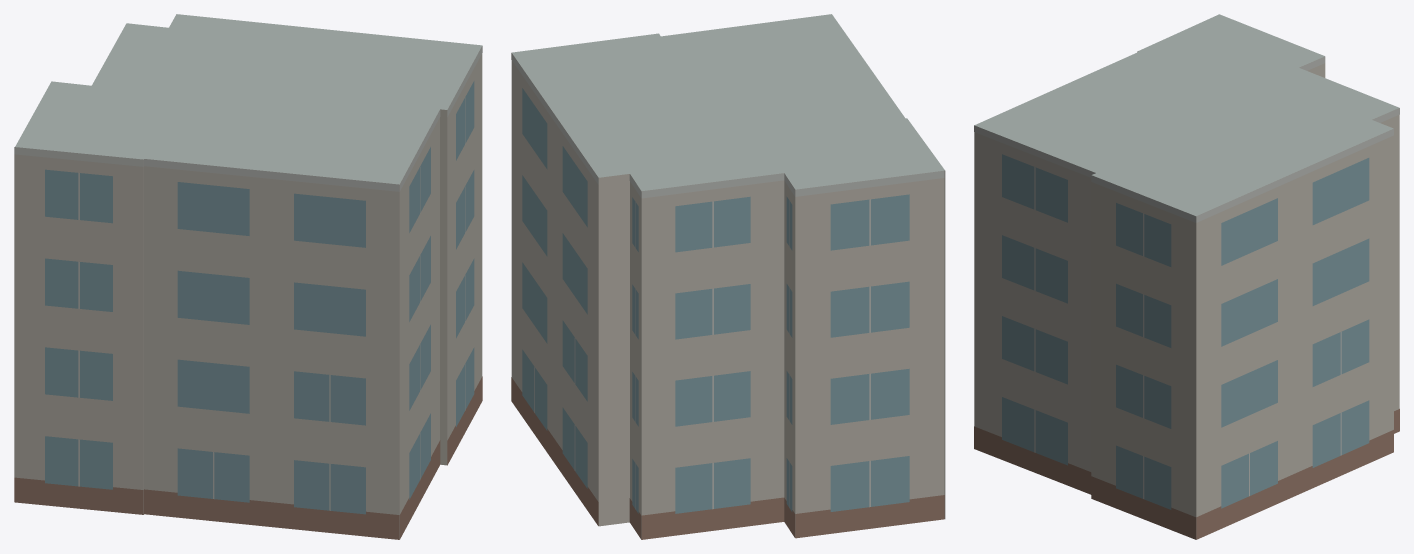
Rendered from survey-upis-32666633.glb.
The picture shows the model from 3 angles, left to right: view 1: azimuth 30°, elevation 25°; view 2: azimuth 150°, elevation 25°; view 3: azimuth 270°, elevation 25°; orthographic projection. The views are drawn at different scales.
Visible parts, largest first — view 1: survey-upis-32666633.tmp; view 2: survey-upis-32666633.tmp; view 3: survey-upis-32666633.tmp.
Boxes of the visible parts, bbox=[...] form: survey-upis-32666633.tmp: bbox=[14, 14, 482, 539]; survey-upis-32666633.tmp: bbox=[511, 14, 945, 539]; survey-upis-32666633.tmp: bbox=[974, 14, 1399, 539].
Bounding box in the file's own units: 15.69 × 11.7 × 13.95.
